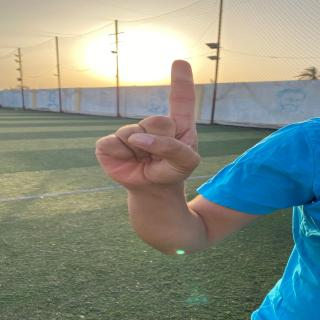BAA: (96, 52, 229, 190)
